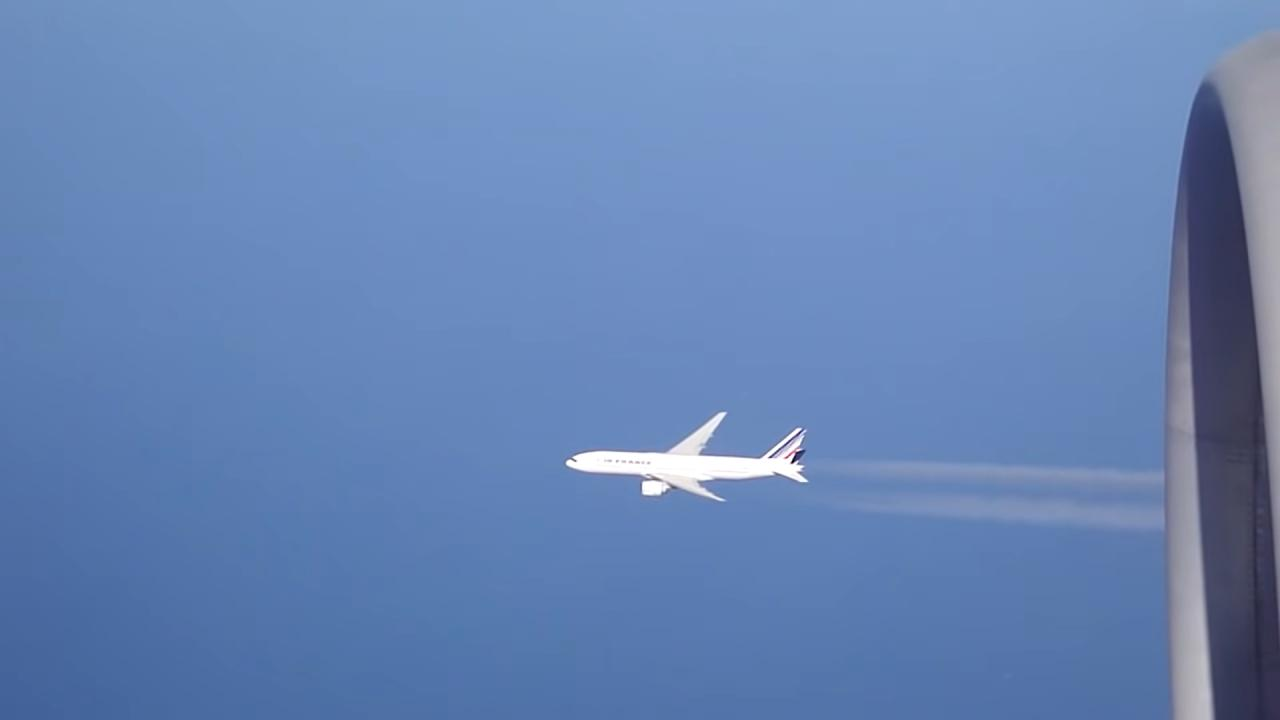Airplane: (548, 399, 844, 519)
